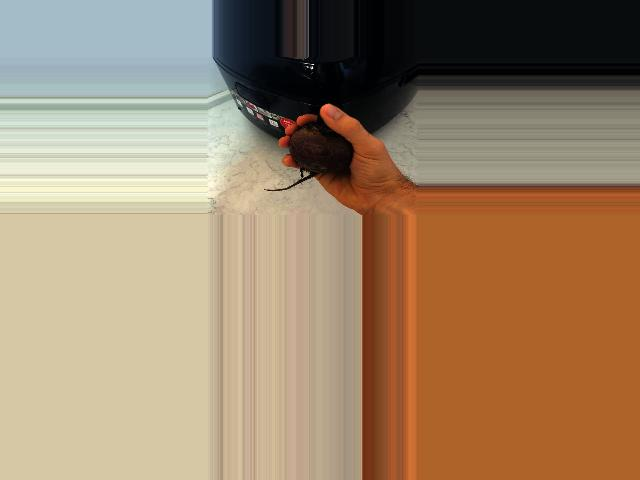beet: (263, 115, 352, 191)
